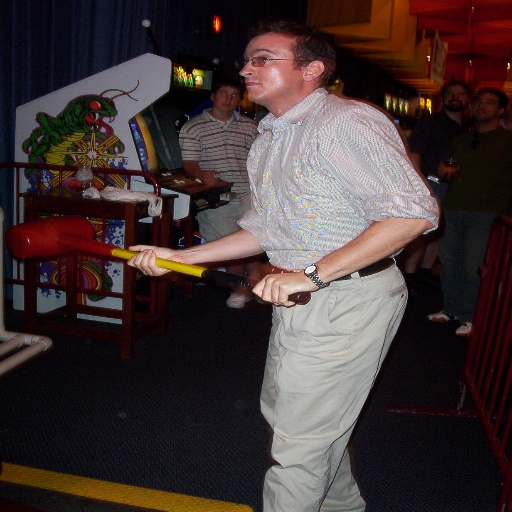hand: (241, 102, 439, 309), (123, 244, 193, 277), (196, 170, 224, 185)
